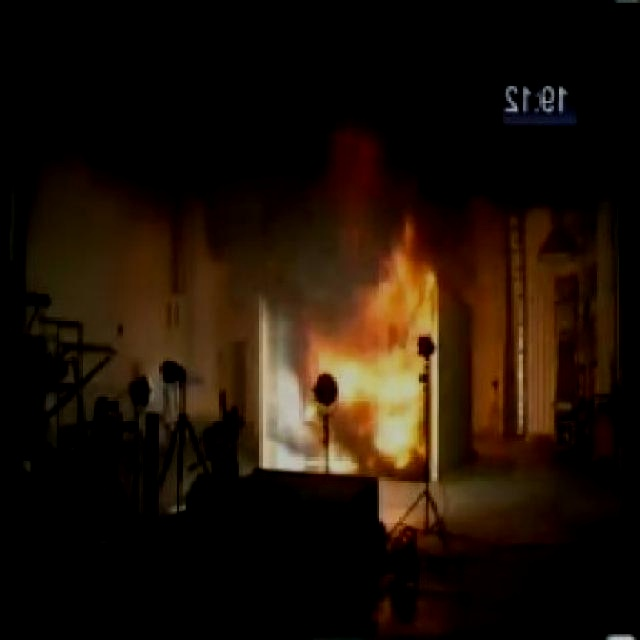fire: (302, 274, 433, 466)
smoke: (0, 4, 635, 270)
